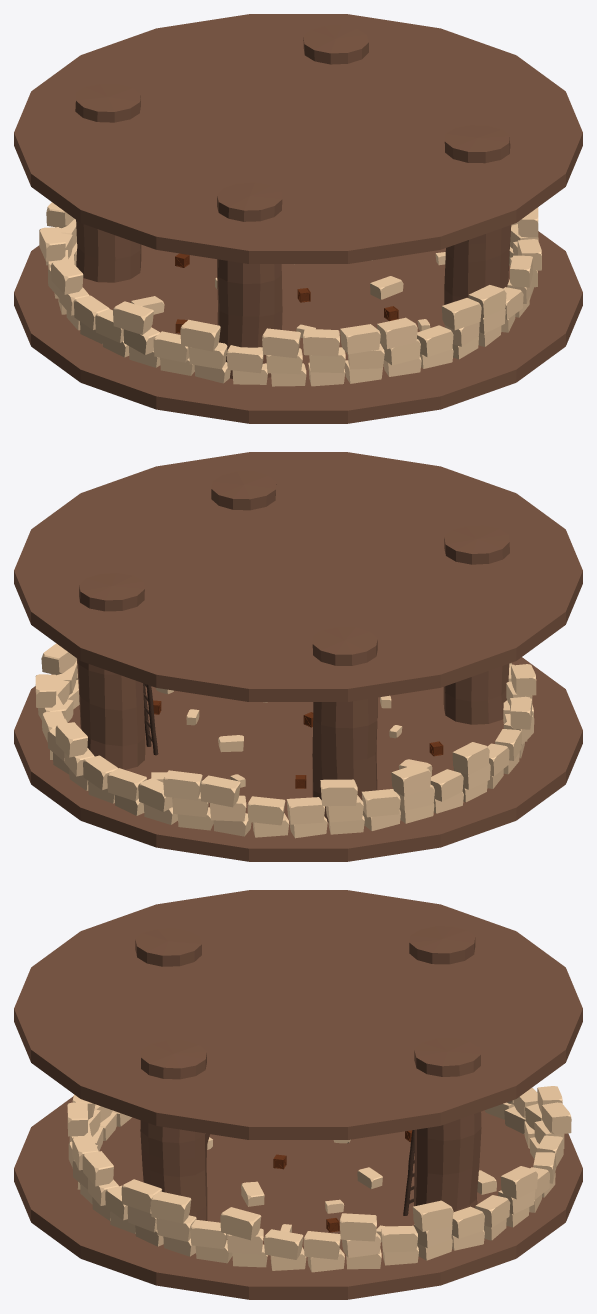
Rendered from fasePredioCombate.fbx.
The picture shows the model from 3 angles, top to bottom: view 1: azimuth 30°, elevation 25°; view 2: azimuth 150°, elevation 25°; view 3: azimuth 270°, elevation 25°; orthographic projection.
Parts seen in each view (by area): view 1: Cylinder.006, Cylinder.005, Circle.005, Circle.002, Circle.001; view 2: Cylinder.006, Cylinder.005, Circle.005, Circle.002, Circle.001, Circle.003; view 3: Cylinder.006, Cylinder.005, Circle.005, Circle.002, Circle.001.
Part boxes in pixels (bbox=[...]): Cylinder.006: bbox=[14, 14, 582, 263]; Cylinder.005: bbox=[14, 231, 582, 423]; Circle.005: bbox=[39, 202, 541, 386]; Circle.002: bbox=[75, 25, 511, 378]; Circle.001: bbox=[131, 252, 445, 338]; Cylinder.006: bbox=[14, 452, 582, 701]; Cylinder.005: bbox=[14, 657, 582, 861]; Circle.005: bbox=[35, 643, 536, 838]; Circle.002: bbox=[77, 471, 509, 822]; Circle.001: bbox=[151, 688, 432, 787]; Circle.003: bbox=[143, 683, 158, 755]; Cylinder.006: bbox=[14, 890, 582, 1139]; Cylinder.005: bbox=[14, 1096, 582, 1299]; Circle.005: bbox=[67, 1086, 571, 1272]; Circle.002: bbox=[135, 926, 481, 1220]; Circle.001: bbox=[207, 1137, 496, 1242].
Size of the model in its own units: 10490 by 3860 by 10652.
